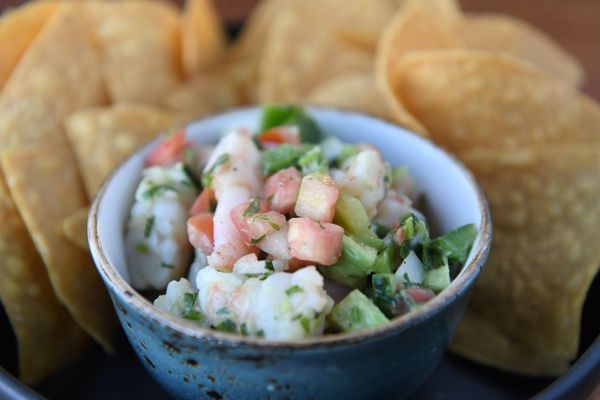sushi: (85, 100, 488, 395)
